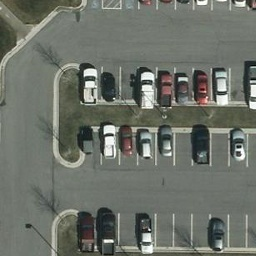car: (77, 215, 95, 252), (99, 215, 117, 252), (136, 216, 154, 253), (207, 216, 225, 253), (83, 66, 99, 104), (158, 72, 172, 111), (139, 67, 153, 106), (194, 71, 209, 106), (213, 69, 228, 104), (99, 123, 114, 158), (118, 126, 134, 156), (138, 128, 154, 158), (156, 127, 172, 157), (194, 131, 210, 161), (230, 129, 246, 159), (247, 67, 256, 111), (103, 70, 115, 102)
